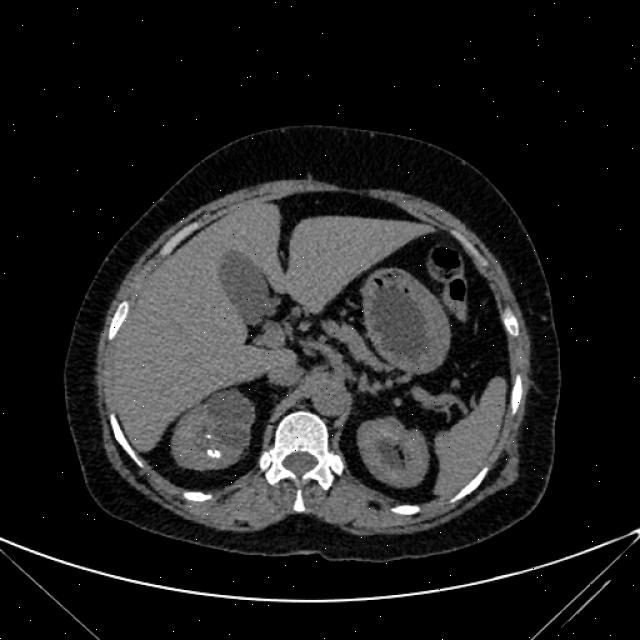kidneystone: (206, 450, 220, 458), (205, 434, 211, 438)
